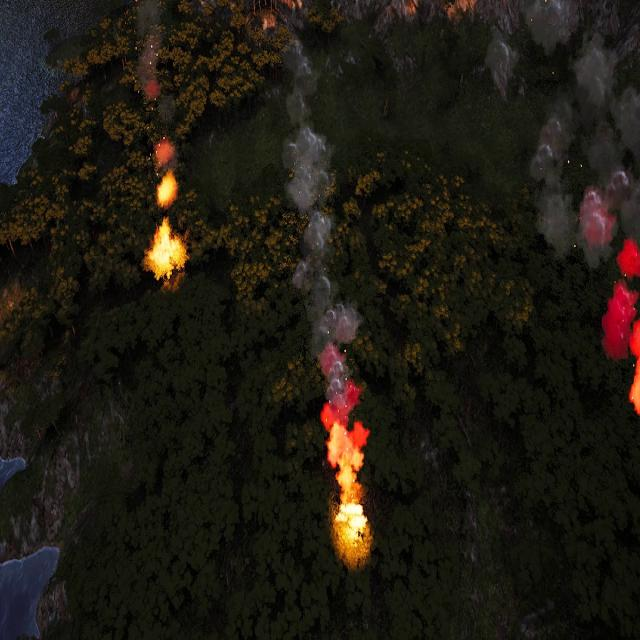fire: (148, 223, 186, 279), (334, 504, 368, 554), (158, 173, 178, 206)
smoke: (277, 16, 384, 501), (527, 38, 640, 432), (131, 0, 176, 170), (155, 134, 176, 168)
